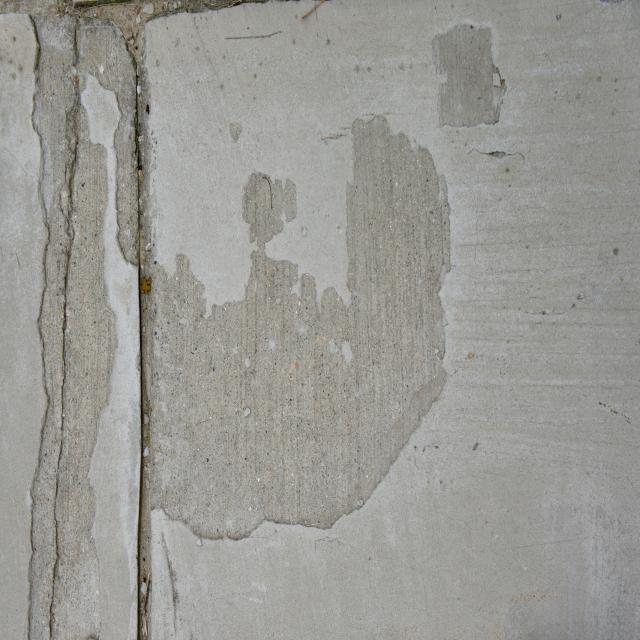concrete spalling: (29, 0, 454, 640), (21, 21, 453, 640)
